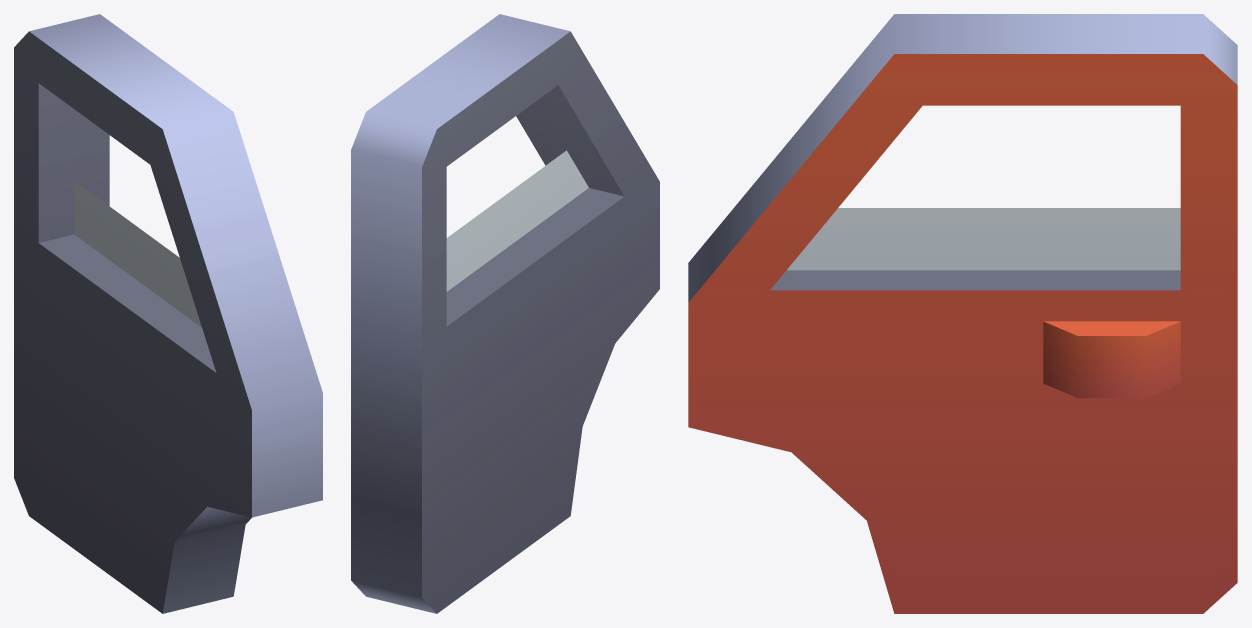
Rendered from kenney-car-debris-door-window.glb.
3 renders of one model, left to right at view 1: azimuth 30°, elevation 25°; view 2: azimuth 150°, elevation 25°; view 3: azimuth 270°, elevation 25°, orthographic. The views are drawn at different scales.
Visible parts, largest first — view 1: debris-door-window; view 2: debris-door-window; view 3: debris-door-window.
Part boxes in pixels (box(x1,y1,x2,y2)): debris-door-window: box(14, 14, 322, 613); debris-door-window: box(351, 14, 659, 613); debris-door-window: box(688, 14, 1237, 613).
Bounding box in the file's own units: 0.188 × 0.9 × 0.8.
Materials: 1 (1 with a texture image).
